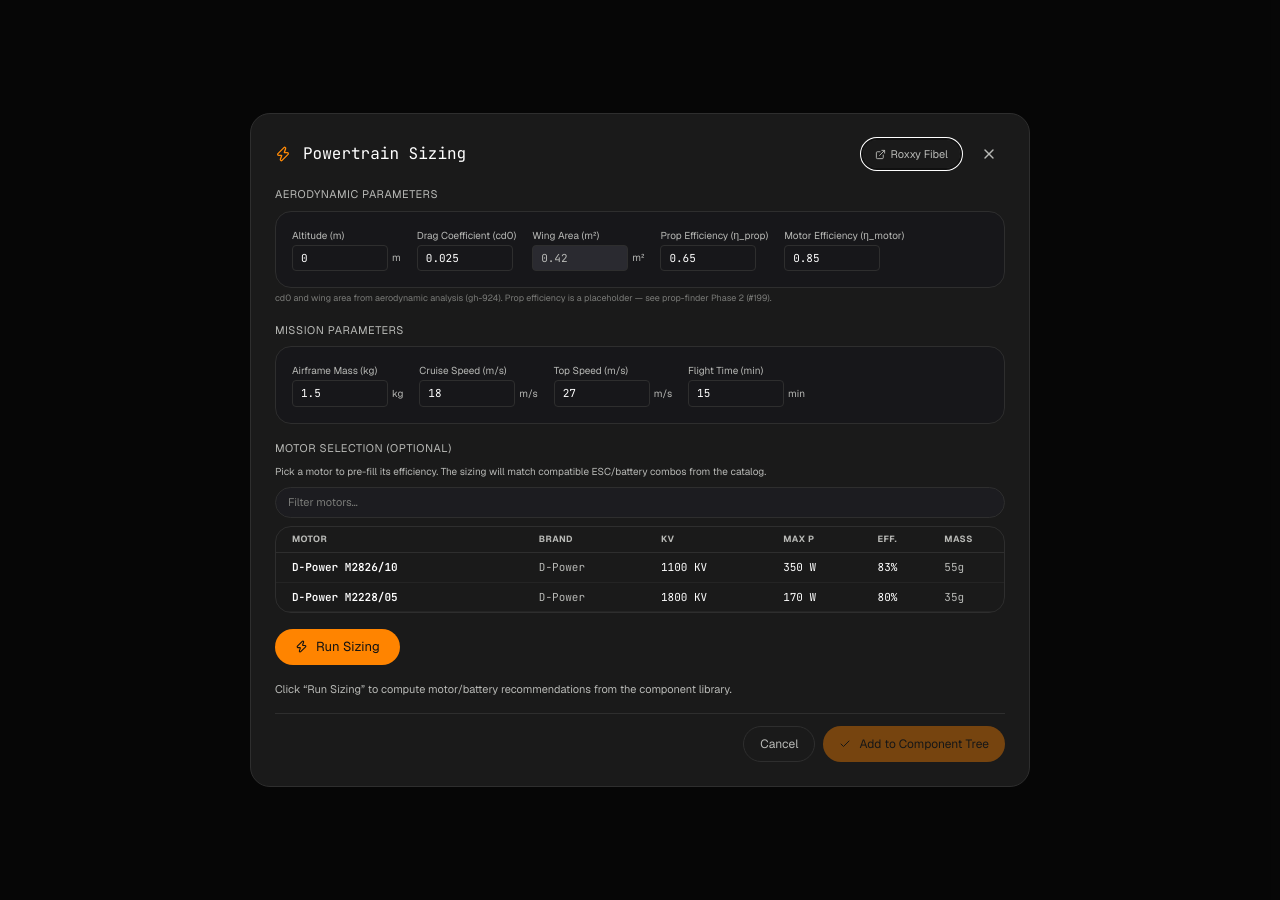
Test: PowertrainSizingModal › shows notice after motor selection
The image size is (1280, 900).
Click the row with test id "motor-row-1": [640, 567] box [276,552,1004,582]
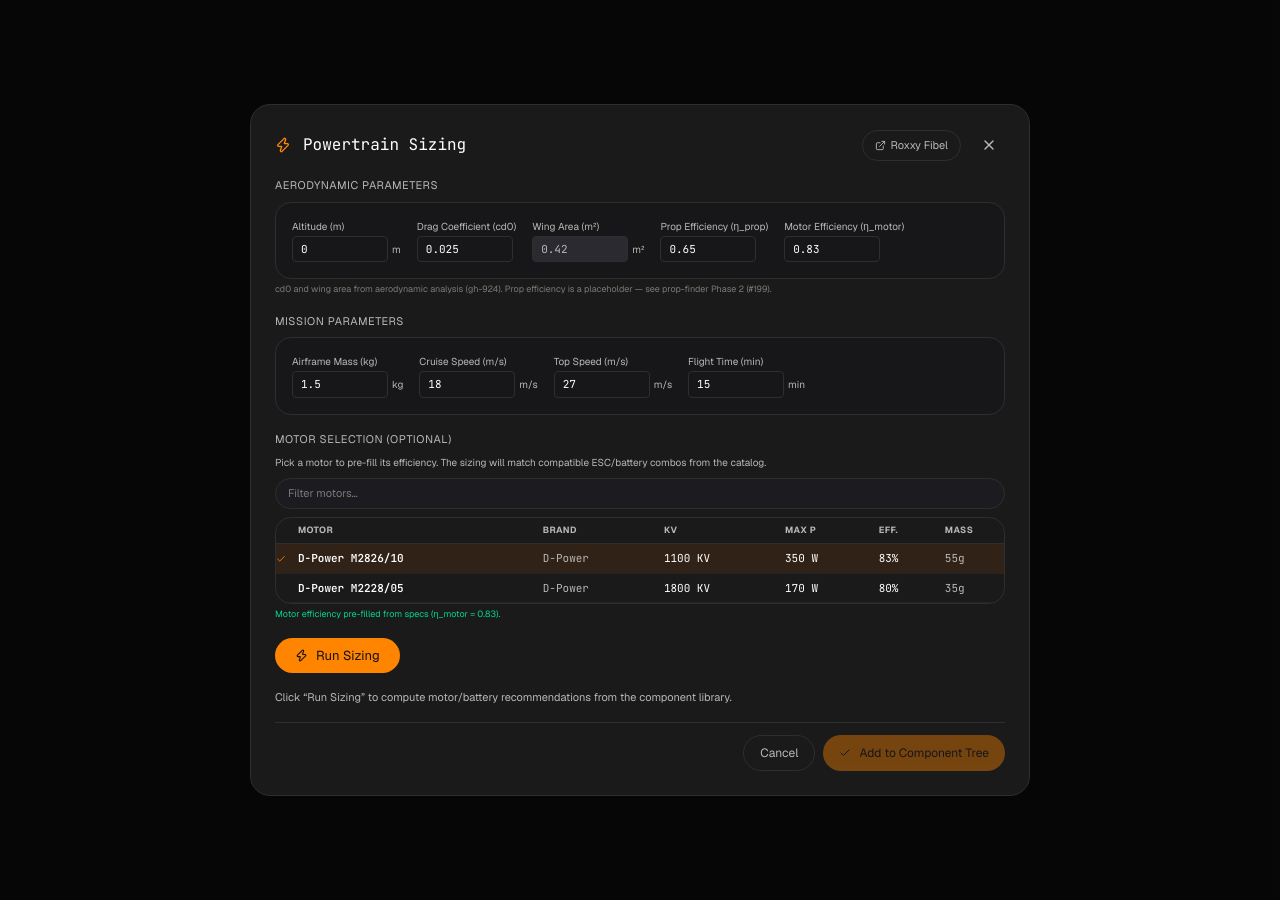
Check: the text "Motor efficiency pre-filled from specs (η_motor = 0.83)." is shown, box [275,608,500,620]
